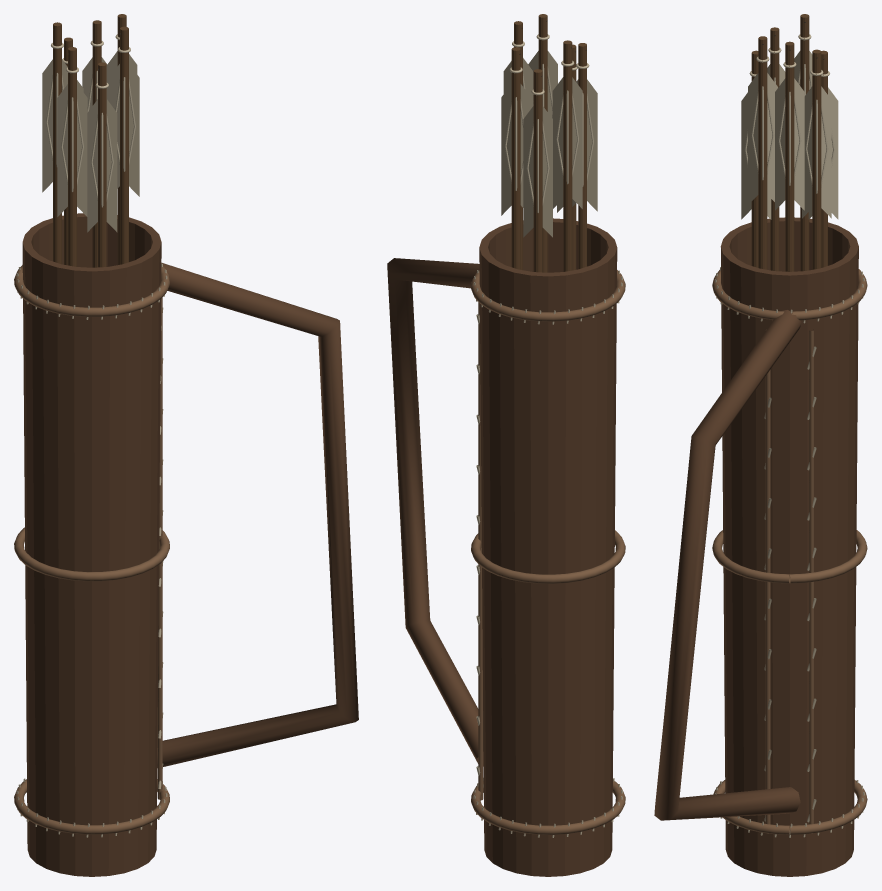
File: period_quiver.glb
3 renders of one model, left to right at view 1: azimuth 30°, elevation 25°; view 2: azimuth 150°, elevation 25°; view 3: azimuth 270°, elevation 25°, orthographic.
Visible parts, largest first — view 1: Leather quiver shell and open rim, Shoulder carry strap, Arrow 07 hardwood shaft, Reinforcing leather band.001, Reinforcing leather band, Reinforcing leather band.002, Quiver vertical seam, Arrow 05 hardwood shaft, Arrow 06 hardwood shaft, Arrow 04 hardwood shaft, Arrow 06 feather 0, Arrow 06 feather 1 (+5 smaller); view 2: Leather quiver shell and open rim, Shoulder carry strap, Arrow 04 hardwood shaft, Arrow 02 hardwood shaft, Reinforcing leather band.001, Reinforcing leather band, Arrow 03 hardwood shaft, Reinforcing leather band.002, Quiver vertical seam.001, Arrow 05 hardwood shaft, Arrow 04 feather 0, Arrow 05 feather 2 (+8 smaller); view 3: Leather quiver shell and open rim, Shoulder carry strap, Quiver vertical seam.001, Quiver vertical seam, Arrow 07 hardwood shaft, Arrow 01 hardwood shaft, Reinforcing leather band.001, Arrow 02 hardwood shaft, Reinforcing leather band, Reinforcing leather band.002, Arrow 04 hardwood shaft, Arrow 01 feather 1 (+10 smaller).
Part boxes in pixels (<box>): Leather quiver shell and open rim: <box>22,213,161,876</box>; Shoulder carry strap: <box>157,262,358,767</box>; Arrow 07 hardwood shaft: <box>120,26,128,264</box>; Reinforcing leather band.001: <box>14,527,169,581</box>; Reinforcing leather band: <box>14,779,169,834</box>; Reinforcing leather band.002: <box>14,265,169,316</box>; Quiver vertical seam: <box>157,297,162,799</box>; Arrow 05 hardwood shaft: <box>68,47,76,266</box>; Arrow 06 hardwood shaft: <box>98,62,106,267</box>; Arrow 04 hardwood shaft: <box>53,22,61,264</box>; Arrow 06 feather 0: <box>106,99,117,232</box>; Arrow 06 feather 1: <box>87,99,97,232</box>; Leather quiver shell and open rim: <box>479,218,617,876</box>; Shoulder carry strap: <box>387,258,483,766</box>; Arrow 04 hardwood shaft: <box>563,40,572,271</box>; Arrow 02 hardwood shaft: <box>511,47,520,269</box>; Reinforcing leather band.001: <box>471,530,625,583</box>; Reinforcing leather band: <box>471,781,625,834</box>; Arrow 03 hardwood shaft: <box>533,69,542,272</box>; Reinforcing leather band.002: <box>471,270,625,321</box>; Quiver vertical seam.001: <box>478,302,483,800</box>; Arrow 05 hardwood shaft: <box>578,43,586,269</box>; Arrow 04 feather 0: <box>552,77,563,208</box>; Arrow 05 feather 2: <box>587,79,597,211</box>; Leather quiver shell and open rim: <box>720,217,858,876</box>; Shoulder carry strap: <box>654,310,801,820</box>; Quiver vertical seam.001: <box>809,329,813,833</box>; Quiver vertical seam: <box>765,329,770,833</box>; Arrow 07 hardwood shaft: <box>758,36,767,269</box>; Arrow 01 hardwood shaft: <box>785,41,794,271</box>; Reinforcing leather band.001: <box>712,530,867,583</box>; Arrow 02 hardwood shaft: <box>812,49,821,269</box>; Reinforcing leather band: <box>713,780,867,834</box>; Reinforcing leather band.002: <box>712,269,867,320</box>; Arrow 04 hardwood shaft: <box>800,14,809,271</box>; Arrow 01 feather 1: <box>794,78,804,210</box>.
Bounding box in the file's own units: 0.2526 × 0.7345 × 0.1728.
